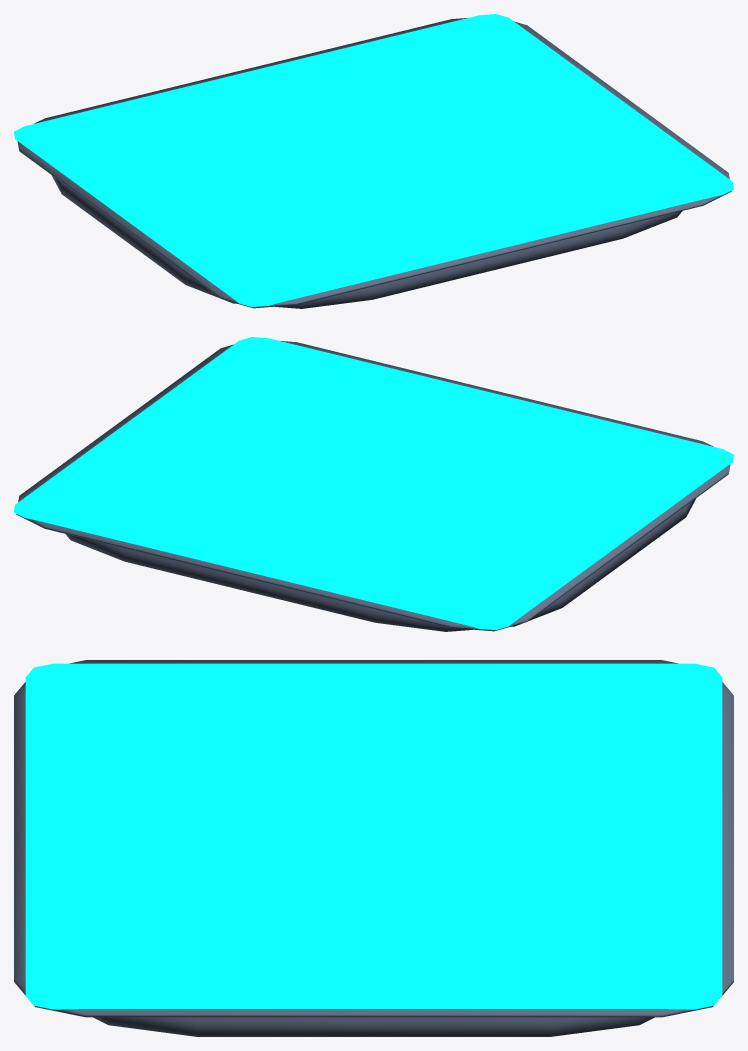
File: arena-base.glb
3 views of the same model, one above another, from view 1: azimuth 30°, elevation 25°; view 2: azimuth 150°, elevation 25°; view 3: azimuth 270°, elevation 25° (orthographic). The views are drawn at different scales.
Parts seen in each view (by area): view 1: ArenaBase; view 2: ArenaBase; view 3: ArenaBase.
Boxes of the visible parts, bbox=[...] form: ArenaBase: bbox=[14, 14, 733, 308]; ArenaBase: bbox=[14, 337, 733, 631]; ArenaBase: bbox=[14, 660, 733, 1036].
Size of the model in its own units: 28.4 by 1.3 by 24.4.
